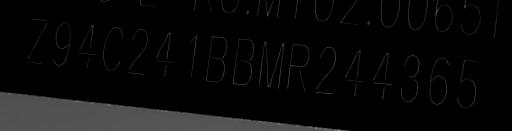letter: (364, 49, 396, 102), (313, 41, 341, 100), (421, 56, 453, 105), (151, 28, 181, 77), (200, 33, 230, 82), (254, 37, 284, 86), (455, 56, 481, 111), (286, 36, 310, 95), (98, 23, 128, 70), (22, 15, 48, 66), (396, 49, 420, 104), (230, 33, 254, 84), (127, 24, 149, 77), (344, 44, 364, 101), (50, 21, 74, 66), (75, 22, 97, 71), (183, 29, 199, 82)
